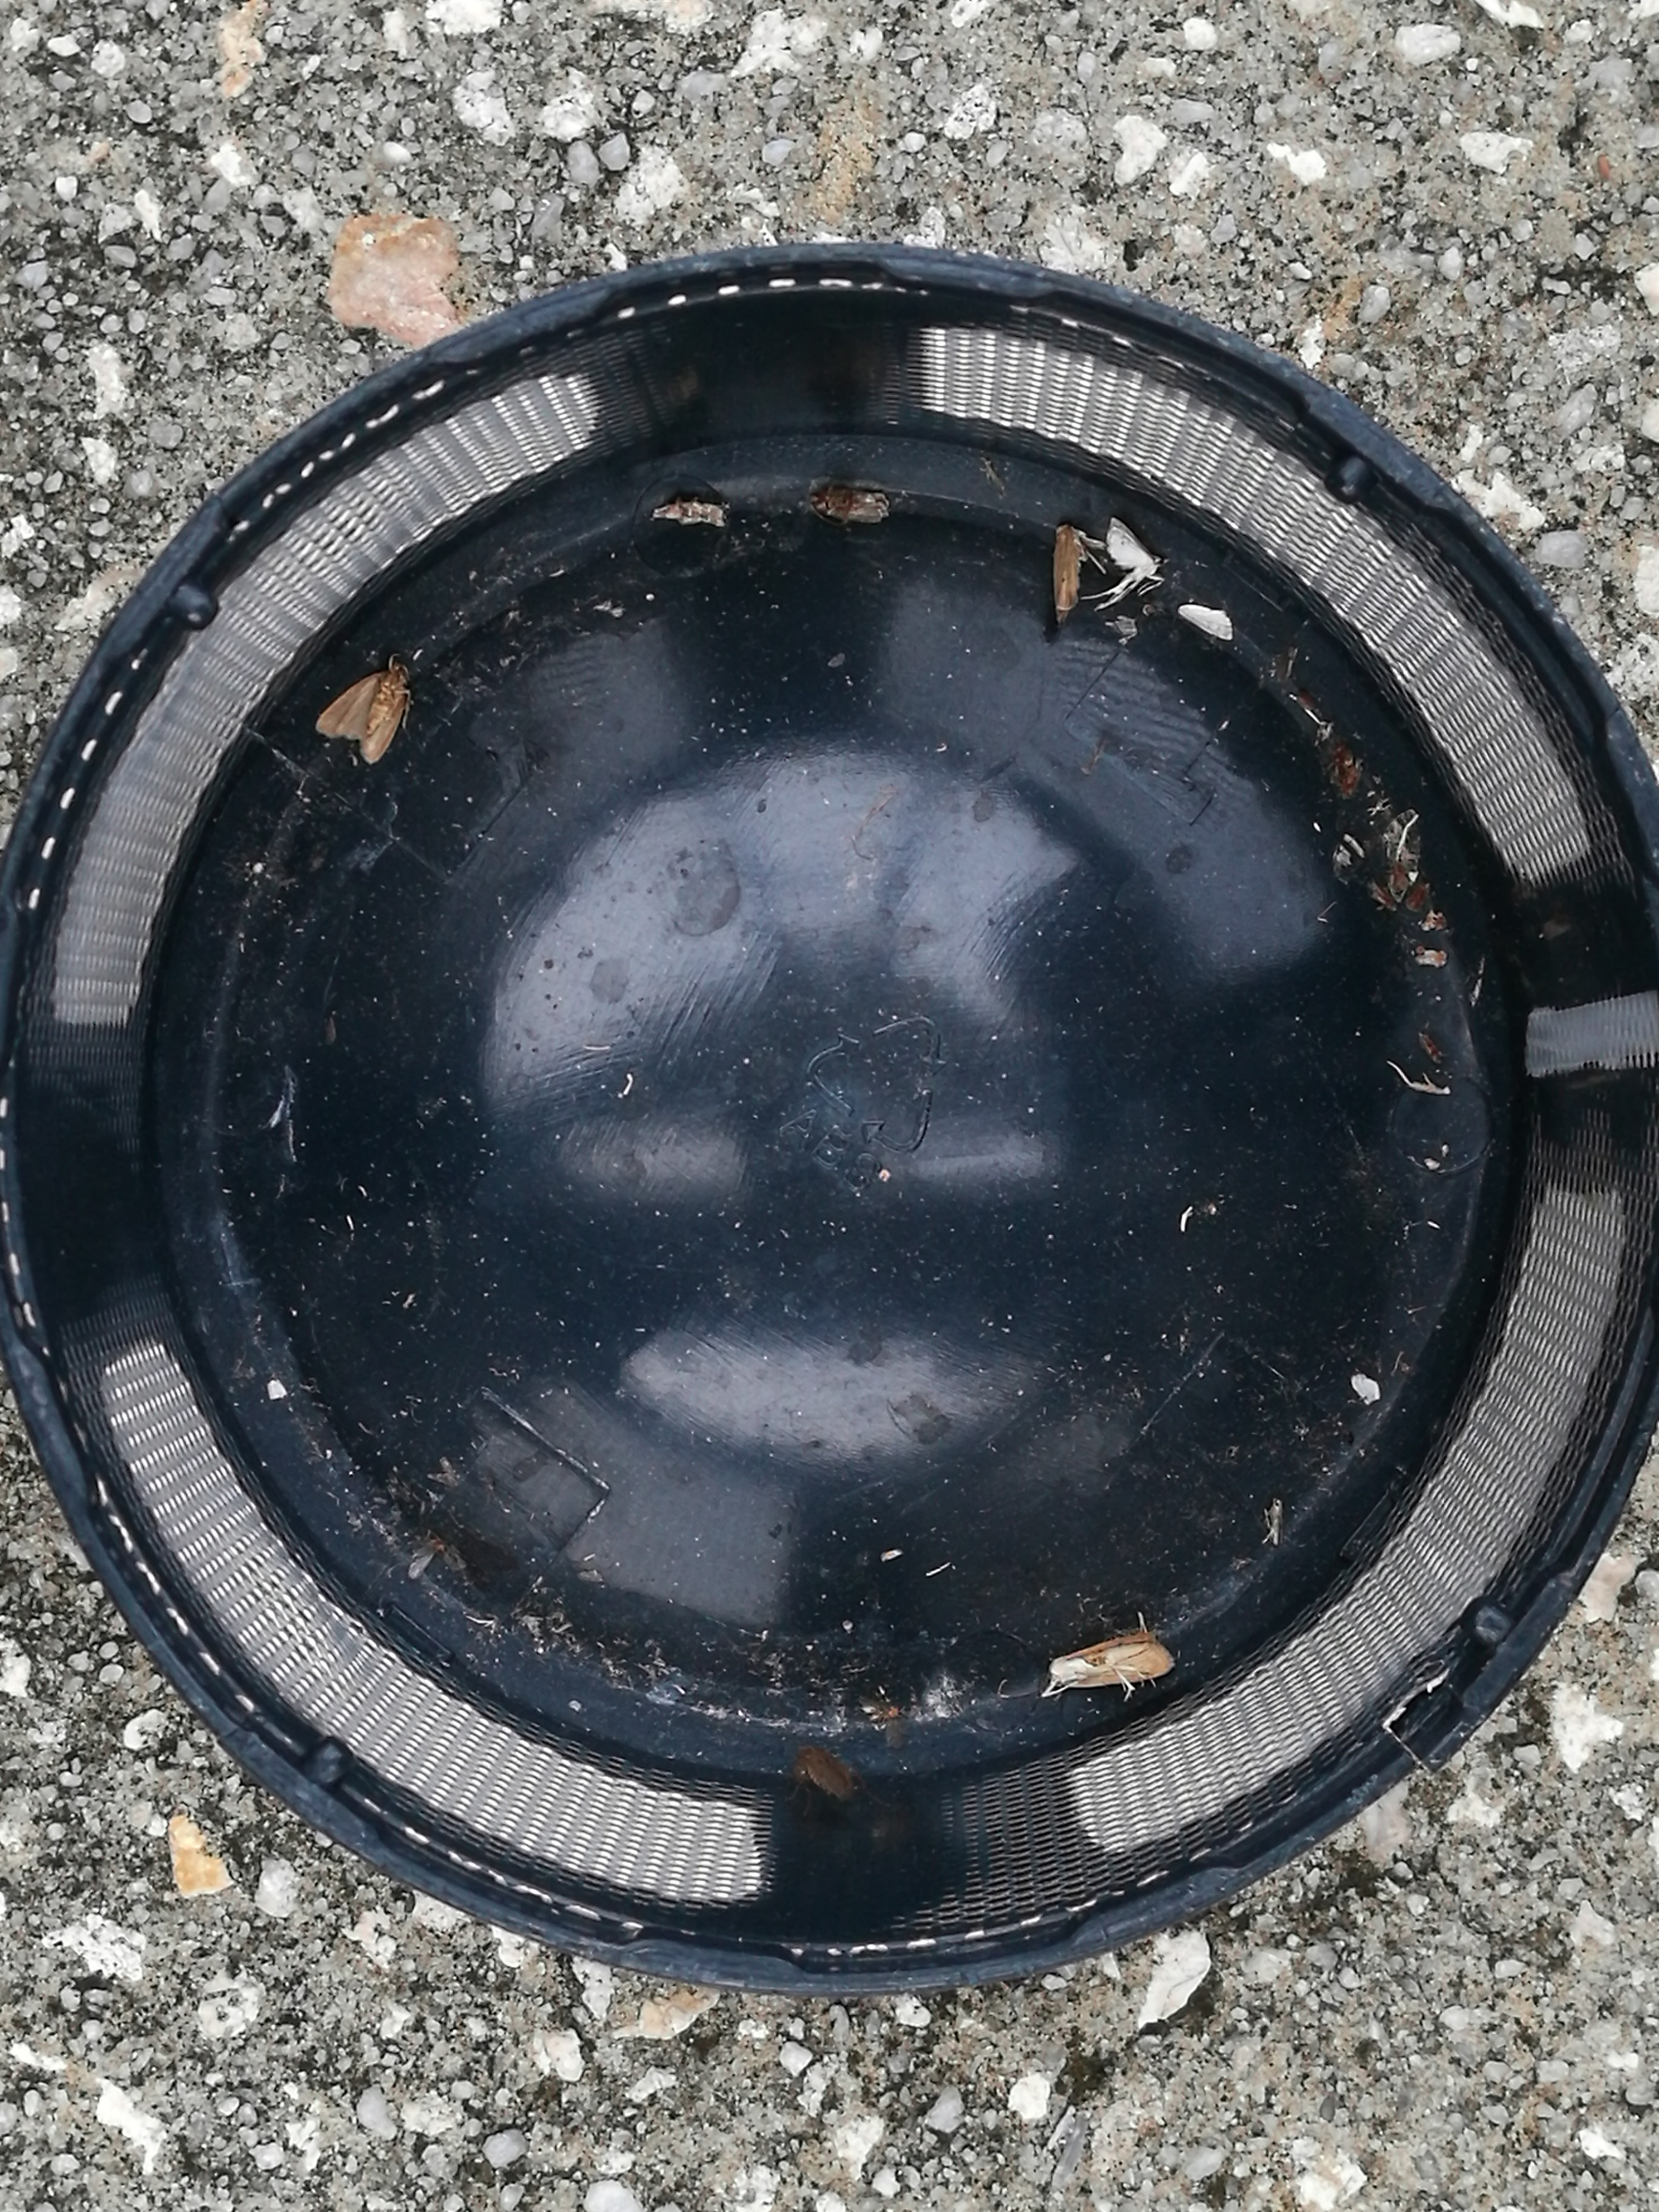mosquito: (1051, 1634, 1175, 1688), (1053, 528, 1082, 624), (814, 489, 890, 524)
moth: (315, 662, 408, 763), (1108, 517, 1159, 570)
